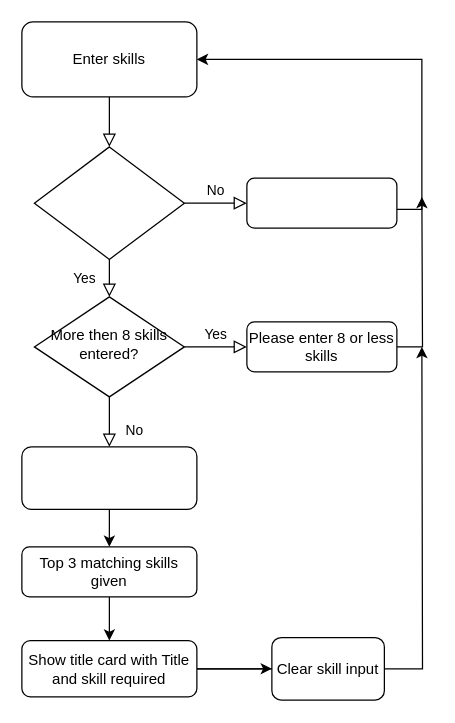
This 455x723 diagram has some shape labels left out. Each missing label, with the centre of its shape:
"Load random forest model and input skills entered" belongs at [109,477].
"Please enter three or more skills" belongs at [321,202].
"Three or more skills entered" belongs at [108,202].
